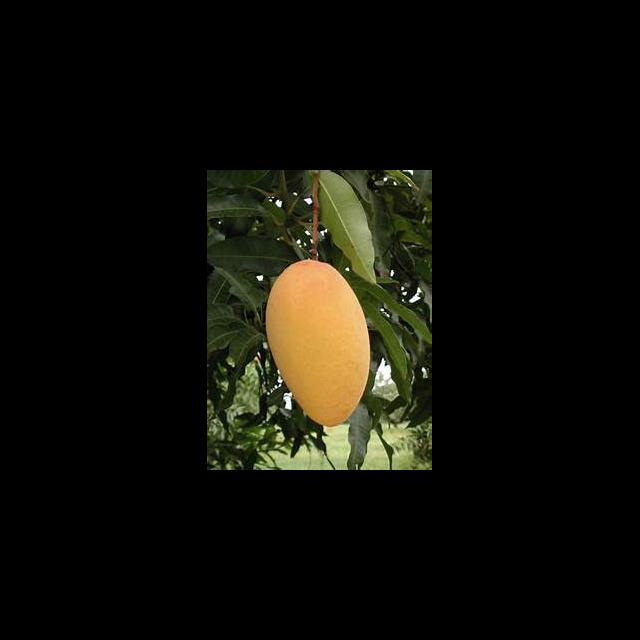mango: (267, 260, 370, 426)
